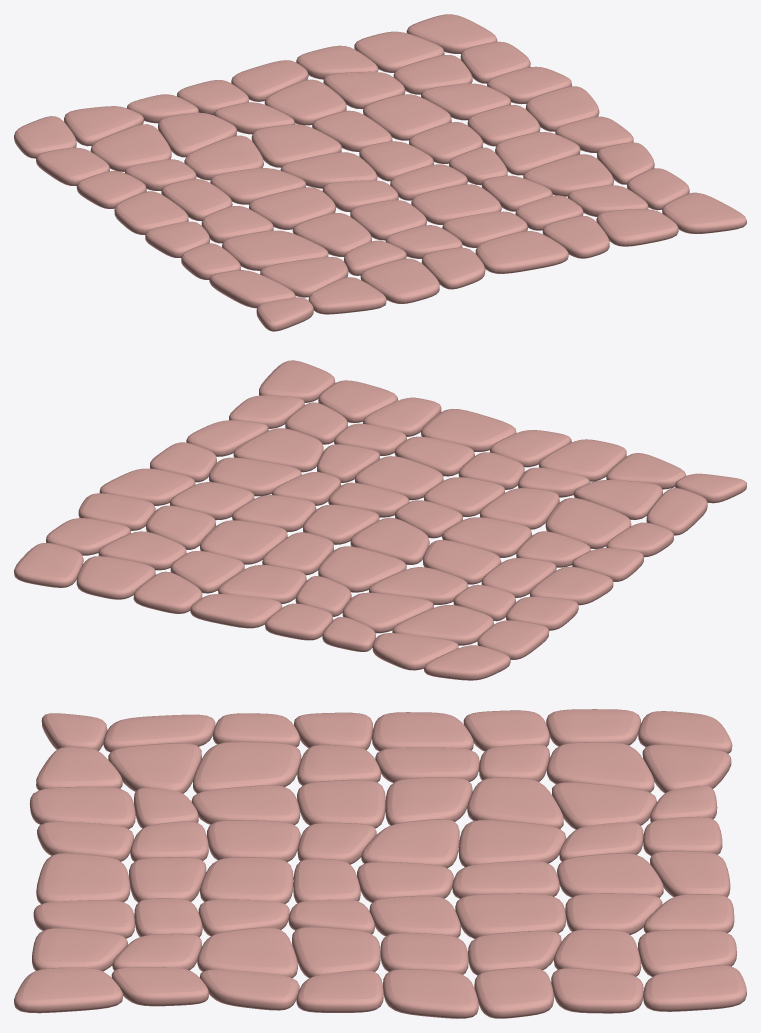
File: ENV_StoneFloor_Placeholder03.fbx
3 renders of one model, top to bottom at view 1: azimuth 30°, elevation 25°; view 2: azimuth 150°, elevation 25°; view 3: azimuth 270°, elevation 25°, orthographic. The views are drawn at different scales.
Parts seen in each view (by area): view 1: Plane.002; view 2: Plane.002; view 3: Plane.002.
Boxes of the visible parts, <box> form: Plane.002: <box>14,14,746,331</box>; Plane.002: <box>14,360,746,680</box>; Plane.002: <box>14,709,746,1018</box>.
Bounding box in the file's own units: 497 × 483 × 12.69.
